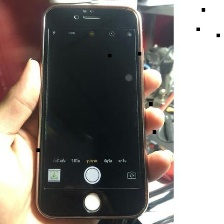phone: (31, 1, 151, 223)
